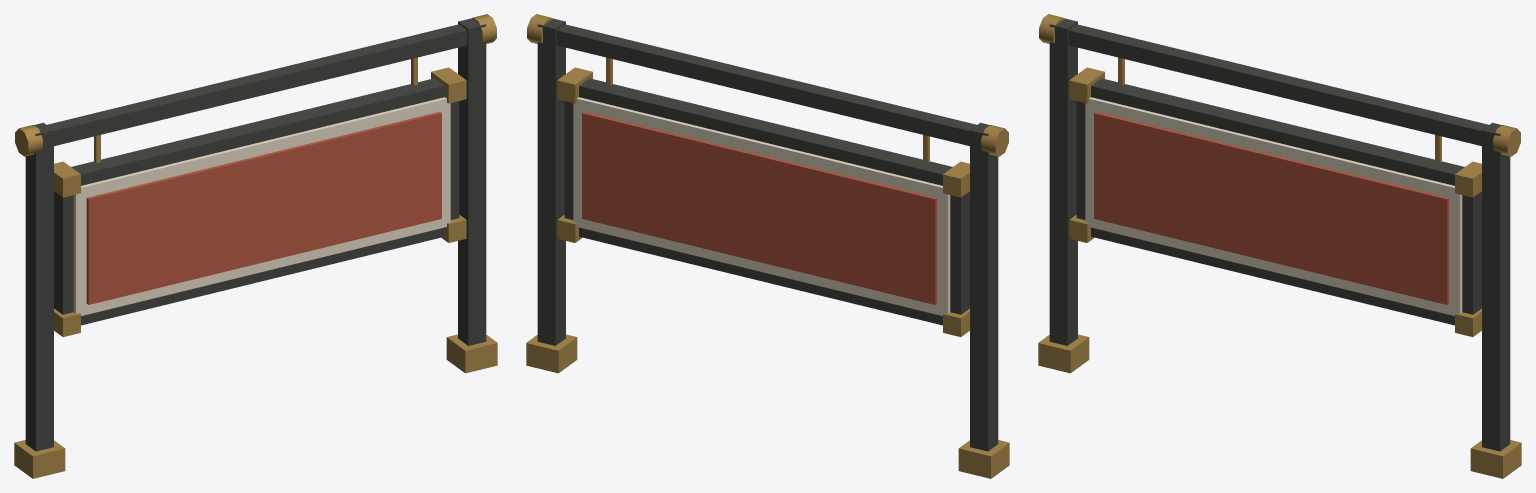
Rendered from sign_post_2.glb.
The picture shows the model from 3 angles, left to right: view 1: azimuth 30°, elevation 25°; view 2: azimuth 150°, elevation 25°; view 3: azimuth 330°, elevation 25°; orthographic projection.
Visible parts, largest first — view 1: sign_post_2; view 2: sign_post_2; view 3: sign_post_2.
Part boxes in pixels (x1,y1,x2,y2): sign_post_2: (14, 14, 497, 478); sign_post_2: (526, 14, 1009, 478); sign_post_2: (1038, 14, 1521, 478).
Size of the model in its own units: 2.6 by 1.81 by 0.18.
